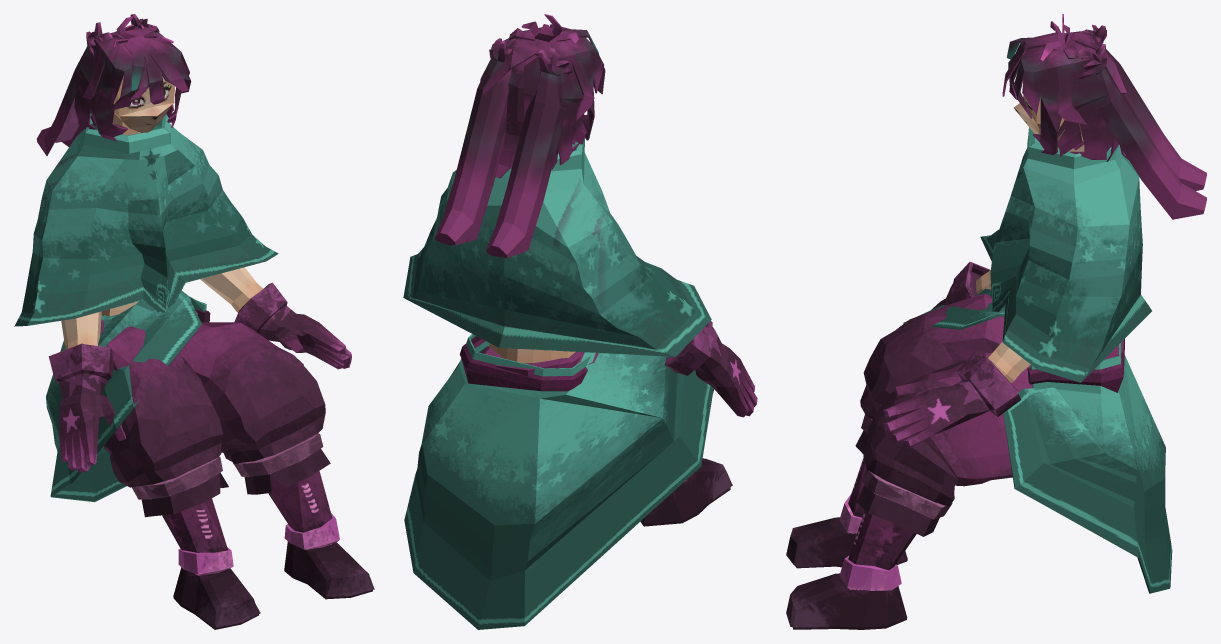
Rendered from pp5FullBodyJumto.fbx.
3 views of the same model, side by side, from view 1: azimuth 30°, elevation 25°; view 2: azimuth 150°, elevation 25°; view 3: azimuth 270°, elevation 25° (orthographic). The views are drawn at different scales.
Visible parts, largest first — view 1: Torus.002; view 2: Torus.002; view 3: Torus.002.
Part boxes in pixels (x1,y1,x2,y2): Torus.002: [14, 14, 374, 629]; Torus.002: [403, 14, 757, 629]; Torus.002: [786, 14, 1206, 629].
Bounding box in the file's own units: 197 × 366 × 247.
Materials: 1 (1 with a texture image).
